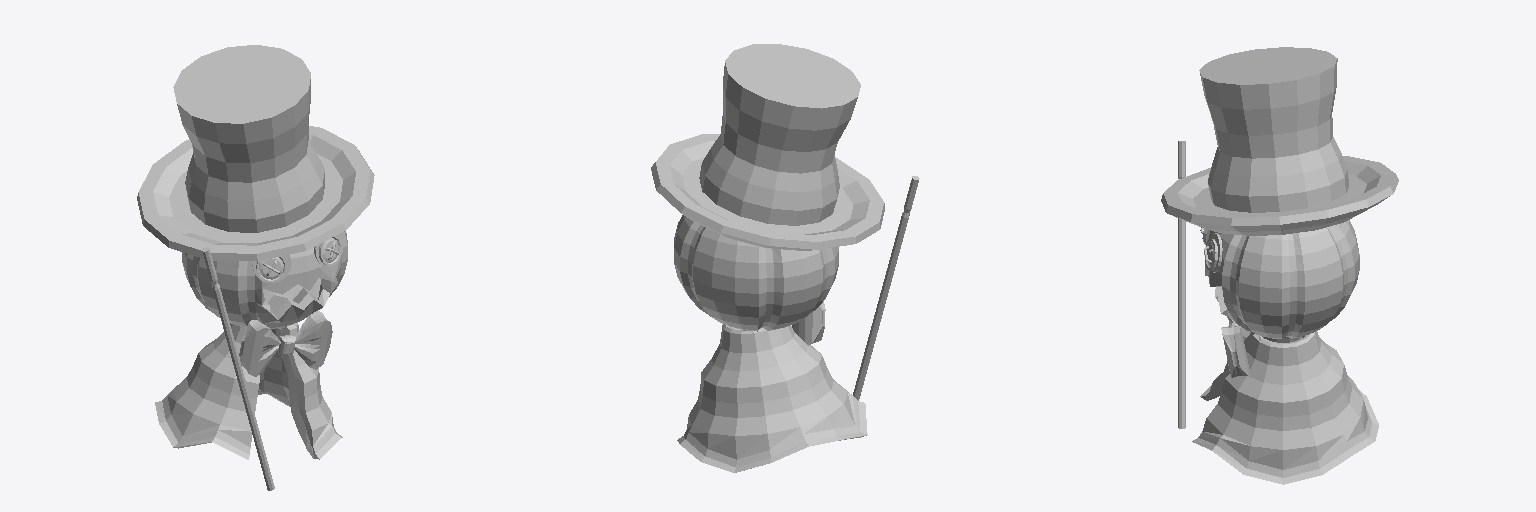
Rendered from The Great Squashini.obj.
The picture shows the model from 3 angles: view 1: azimuth 30°, elevation 25°; view 2: azimuth 150°, elevation 25°; view 3: azimuth 270°, elevation 25°; orthographic projection.
Visible parts, largest first — view 1: pSphere2, pCone4, pCube6, pCylinder14, pCylinder15 pCylinder16; view 2: pSphere2, pCone4, pCylinder14, pCube6; view 3: pSphere2, pCone4, pCylinder14, pCube6, pCylinder15 pCylinder16.
Boxes of the visible parts, x1,y1,x2,y2 form: pSphere2: [137, 45, 374, 328]; pCone4: [155, 322, 342, 459]; pCube6: [239, 311, 332, 376]; pCylinder14: [202, 247, 274, 490]; pCylinder15 pCylinder16: [252, 233, 343, 282]; pSphere2: [651, 44, 884, 331]; pCone4: [677, 324, 867, 472]; pCylinder14: [853, 176, 919, 400]; pCube6: [792, 301, 825, 344]; pSphere2: [1161, 47, 1398, 338]; pCone4: [1192, 331, 1378, 484]; pCylinder14: [1178, 141, 1185, 428]; pCube6: [1221, 317, 1250, 377]; pCylinder15 pCylinder16: [1200, 227, 1222, 272].
Size of the model in its own units: 11.99 by 21.54 by 12.06.